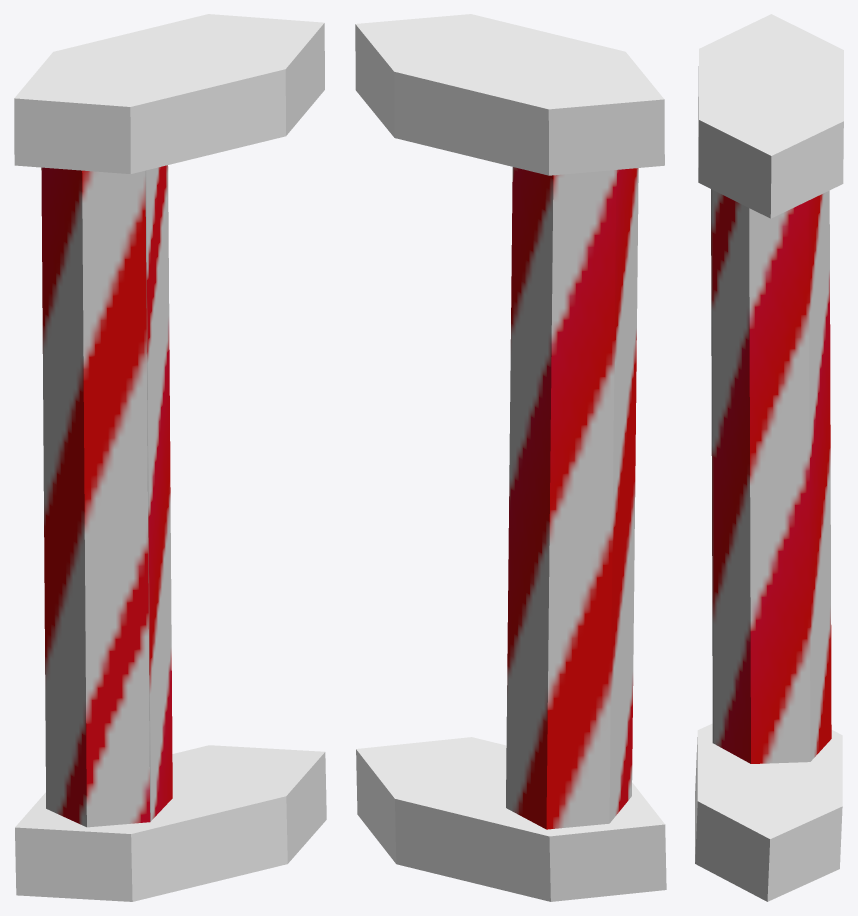
File: Zuckerstange_1744.glb
3 renders of one model, left to right at view 1: azimuth 30°, elevation 25°; view 2: azimuth 150°, elevation 25°; view 3: azimuth 270°, elevation 25°, orthographic. The views are drawn at different scales.
Visible parts, largest first — view 1: pCylinderShape1, pCylinderShape2, pCylinderShape3; view 2: pCylinderShape1, pCylinderShape2, pCylinderShape3; view 3: pCylinderShape1, pCylinderShape2, pCylinderShape3.
Boxes of the visible parts, x1=… form: pCylinderShape1: x1=41, y1=165, x2=172, y2=827; pCylinderShape2: x1=14, y1=14, x2=324, y2=174; pCylinderShape3: x1=15, y1=745, x2=326, y2=901; pCylinderShape1: x1=506, y1=167, x2=638, y2=829; pCylinderShape2: x1=355, y1=14, x2=664, y2=175; pCylinderShape3: x1=356, y1=737, x2=666, y2=901; pCylinderShape1: x1=711, y1=189, x2=831, y2=763; pCylinderShape2: x1=698, y1=14, x2=843, y2=218; pCylinderShape3: x1=695, y1=723, x2=842, y2=901.
Size of the model in its own units: 0.0876 by 0.2154 by 0.0388.
Materials: 3 (1 with a texture image).
